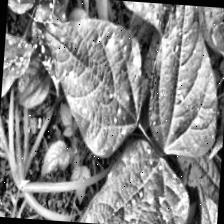Bean Rust: (26, 15, 146, 158), (58, 135, 196, 224), (146, 3, 222, 154), (0, 37, 32, 122), (94, 0, 168, 32)
